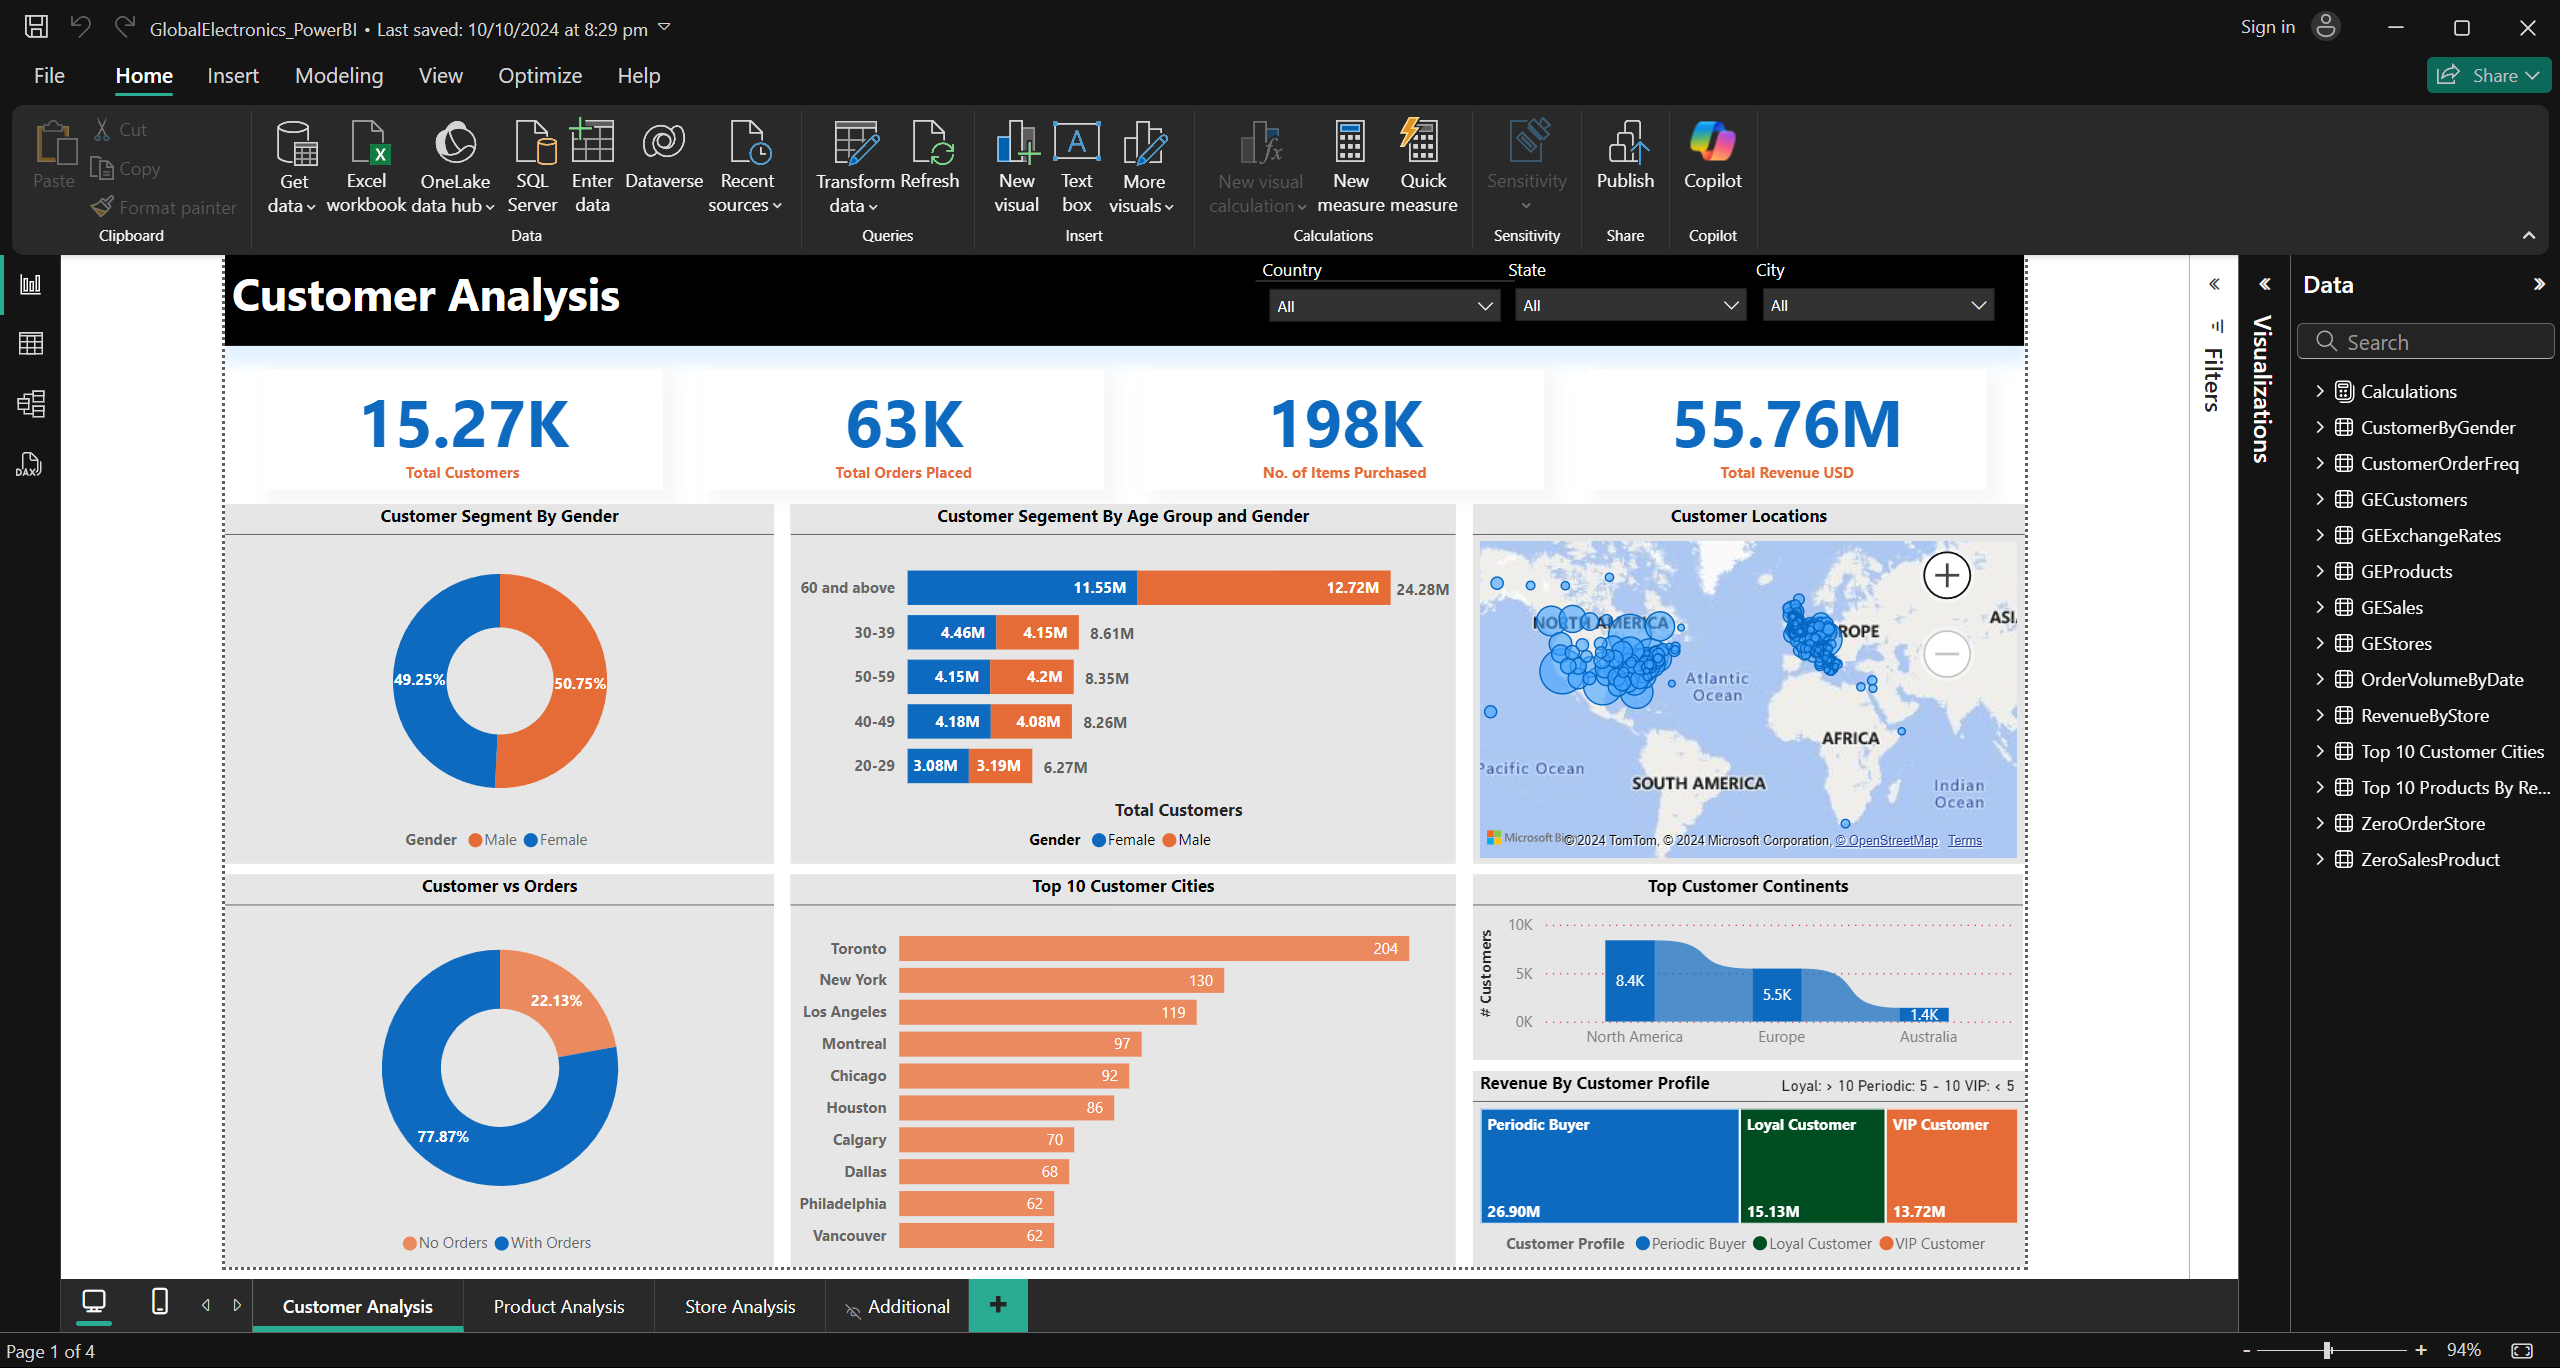

The page's visual inventory and layout, read from the dashboard file:
{"tool":"powerbi","page":{"name":"Customer Analysis","canvas":[1280,720],"ordinal":0},"visuals":[{"type":"textbox","box":[0,0,1279.7,64.5],"z":0},{"type":"card","fields":{"Values":["CountNonNull(GECustomers.CustomerKey)"]},"box":[26.5,81.2,284.3,86],"z":0,"group":"g1"},{"type":"card","fields":{"Values":["Sum(CustomerRevenueByAgeGroup.OrderCount)"]},"box":[340.7,81.2,284.3,86],"z":1000,"group":"g1"},{"type":"donutChart","title":"Customer Segment By Gender","fields":{"Category":["GenderDistribution.Gender"],"Y":["Sum(GenderDistribution.gender_count)"]},"box":[0,177.7,390.7,256.2],"z":1000},{"type":"card","fields":{"Values":["Sum(GESales.Quantity)"]},"box":[653.9,81.2,284.1,86.3],"z":2000,"group":"g1"},{"type":"barChart","title":"Customer Segement By Age Group and Gender","fields":{"Series":["GECustomers.Gender"],"Category":["GECustomers.AgeRange"],"Y":["Calculations.Total Revenue"]},"box":[402.8,177.7,473.5,256.2],"z":2000},{"type":"card","fields":{"Values":["CustomerAgeGroup.Quantity x Count of UnitPriceUSD"]},"box":[969,81.2,284.1,86.3],"z":3000,"group":"g1"},{"type":"map","title":"Customer Locations","fields":{"Size":["CountNonNull(GECustomers.CustomerKey)"],"Category":["GECustomers.Cust_State"]},"box":[887.5,177.7,392.5,256.2],"z":3000},{"type":"treemap","title":"Revenue By Customer Profile","fields":{"Group":["CustomerRevenueByAgeGroup.CustomerOrderingType"],"Values":["CustomerAgeGroup.Total Revenue"]},"box":[887.5,580.5,392.5,139.7],"z":4000,"group":"g2"},{"type":"group","id":"g1","title":"Group 1","box":[26.5,81.2,1226.7,86.3],"z":5000},{"type":"slicer","title":"Country","fields":{"Values":["GECustomers.Cust_Country"]},"box":[732.6,1.7,184.6,57.3],"z":6000},{"type":"slicer","title":"State","fields":{"Values":["GECustomers.Cust_State"]},"box":[908.2,2.5,184.6,57.4],"z":7000},{"type":"slicer","title":"City","fields":{"Values":["GECustomers.Cust_City"]},"box":[1083.9,2.7,184.6,57.4],"z":8000},{"type":"clusteredBarChart","title":"Top 10 Customer Cities","fields":{"Category":["Top 10 Customer Cities.Cust_City"],"Y":["Sum(Top 10 Customer Cities.Customer_Count)"]},"box":[402.8,440.8,473.5,279.5],"z":9000},{"type":"pieChart","title":"Customer vs Orders","fields":{"Y":["Calculations.CustomersWithNoOrders","Calculations.CustomersWithOrders"]},"box":[0,440.8,390.7,279.5],"z":10000},{"type":"ribbonChart","title":"Top Customer Continents","fields":{"Category":["GECustomers.Cust_Continent"],"Y":["CountNonNull(GECustomers.CustomerKey)"]},"box":[888.4,440.8,391.6,132],"z":11000},{"type":"textbox","title":"Loyal: > 10     Periodic: 5 - 10    VIP: < 5","box":[1102.3,584.8,176.8,16.4],"z":12000,"group":"g2"},{"type":"group","id":"g2","title":"Group 2","box":[887.5,580.5,392.5,139.7],"z":12001}]}

Visuals, with their boxes on the page's 1280x720 design canvas (x1, y1, x2, y2). These are canvas units, not pixel positions in the 2560x1368 screenshot, which may show the page scaled, cropped or inside an application window:
textbox: {"left": 0, "top": 0, "right": 1280, "bottom": 64}
card - CountNonNull(GECustomers.CustomerKey): {"left": 26, "top": 81, "right": 311, "bottom": 167}
card - Sum(CustomerRevenueByAgeGroup.OrderCount): {"left": 341, "top": 81, "right": 625, "bottom": 167}
"Customer Segment By Gender" donutChart: {"left": 0, "top": 178, "right": 391, "bottom": 434}
card - Sum(GESales.Quantity): {"left": 654, "top": 81, "right": 938, "bottom": 168}
"Customer Segement By Age Group and Gender" barChart: {"left": 403, "top": 178, "right": 876, "bottom": 434}
card - CustomerAgeGroup.Quantity x Count of UnitPriceUSD: {"left": 969, "top": 81, "right": 1253, "bottom": 168}
"Customer Locations" map: {"left": 888, "top": 178, "right": 1280, "bottom": 434}
"Revenue By Customer Profile" treemap: {"left": 888, "top": 580, "right": 1280, "bottom": 720}
"Group 1" group: {"left": 26, "top": 81, "right": 1253, "bottom": 168}
"Country" slicer: {"left": 733, "top": 2, "right": 917, "bottom": 59}
"State" slicer: {"left": 908, "top": 2, "right": 1093, "bottom": 60}
"City" slicer: {"left": 1084, "top": 3, "right": 1268, "bottom": 60}
"Top 10 Customer Cities" clusteredBarChart: {"left": 403, "top": 441, "right": 876, "bottom": 720}
"Customer vs Orders" pieChart: {"left": 0, "top": 441, "right": 391, "bottom": 720}
"Top Customer Continents" ribbonChart: {"left": 888, "top": 441, "right": 1280, "bottom": 573}
"Loyal: > 10     Periodic: 5 - 10    VIP: < 5" textbox: {"left": 1102, "top": 585, "right": 1279, "bottom": 601}
"Group 2" group: {"left": 888, "top": 580, "right": 1280, "bottom": 720}
